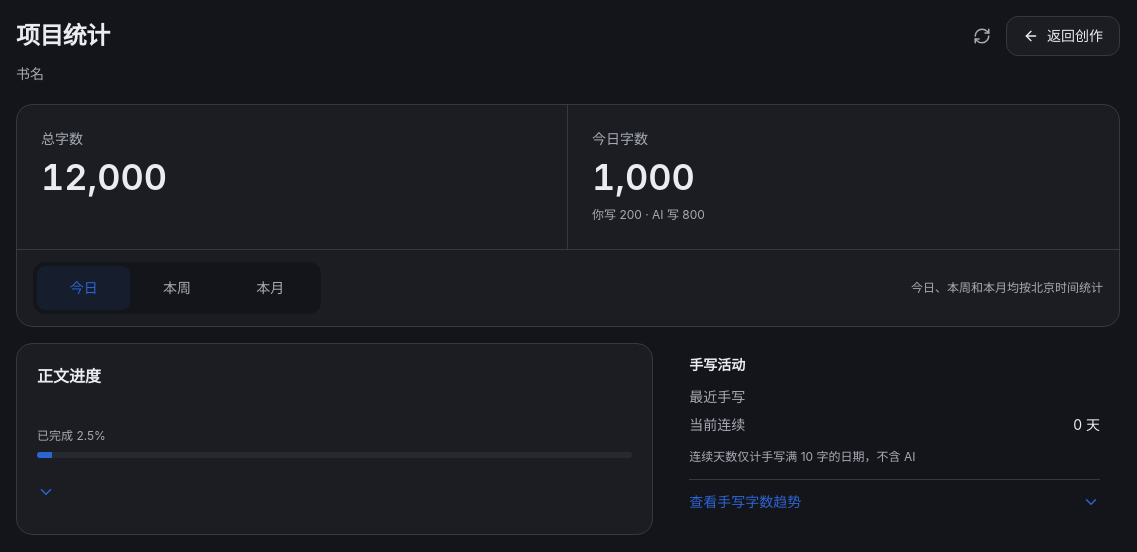
Test: project statistics as one factual page › switches the period once, without duplicating period numbers or fetching collapsed trends
Click the button "本周" at x=177, y=288, box [130, 266, 224, 310]
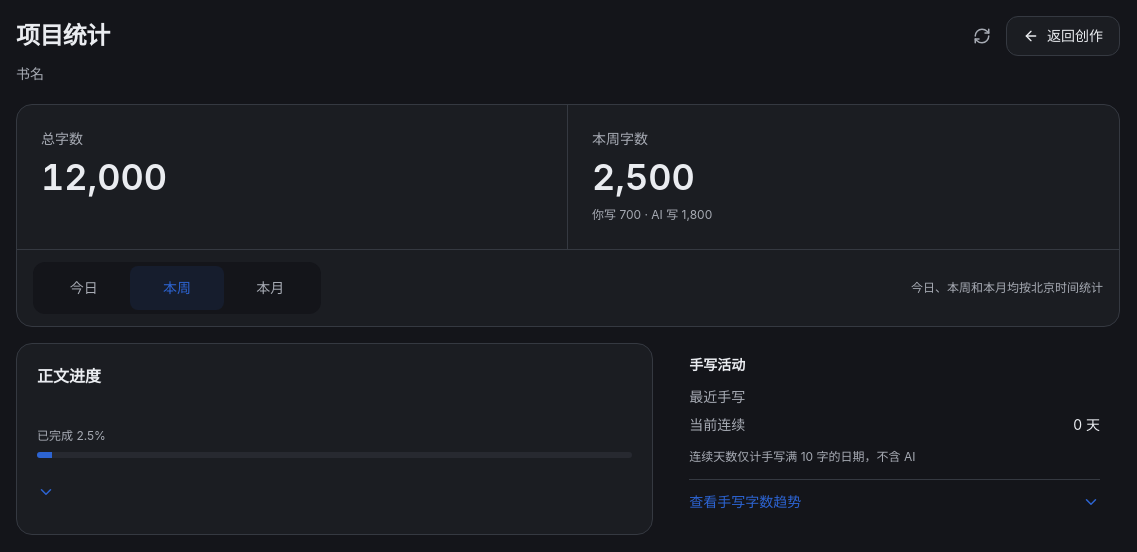
Expected: the text "2,500" is shown, [592, 155, 695, 199]
Expected: the text "你写 700 · AI 写 1,800" is shown, [592, 207, 712, 222]
Expected: the text "1,000" is gone
